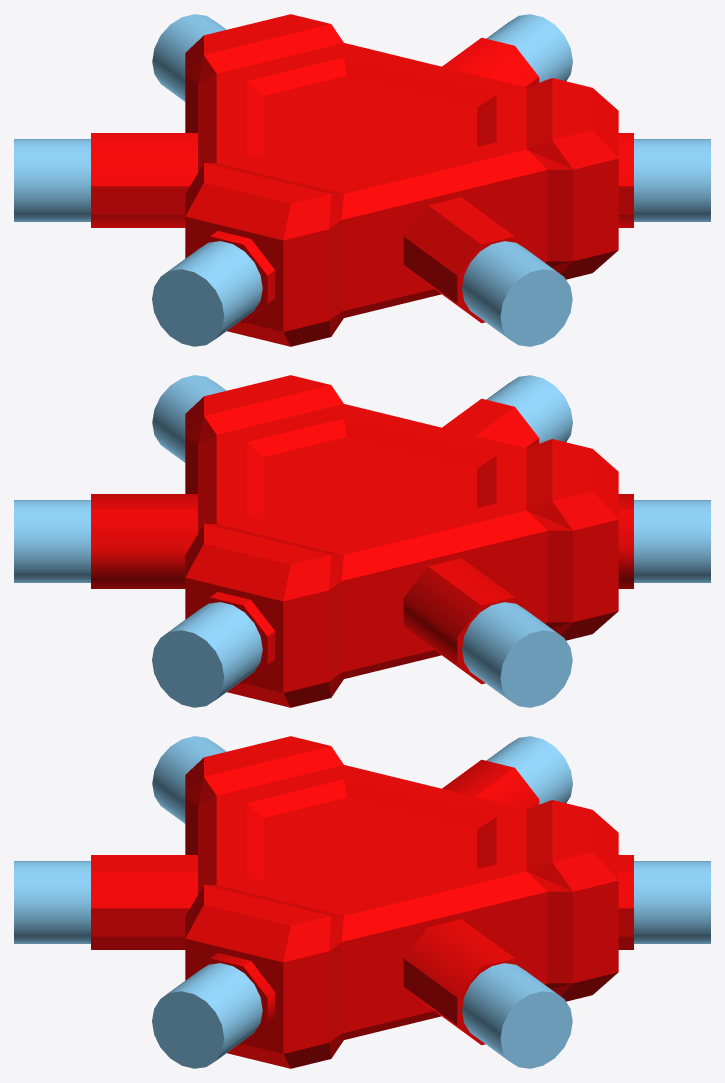
File: Holo_parc.fbx
The picture shows the model from 3 angles, top to bottom: view 1: azimuth 30°, elevation 25°; view 2: azimuth 150°, elevation 25°; view 3: azimuth 270°, elevation 25°; orthographic projection.
Parts seen in each view (by area): view 1: Holo_Parc, Connexion (×6); view 2: Holo_Parc, Connexion (×6); view 3: Holo_Parc, Connexion (×6).
Part boxes in pixels (bbox=[...]): Holo_Parc: bbox=[91, 14, 633, 346]; Connexion (×6): bbox=[14, 14, 710, 346]; Holo_Parc: bbox=[91, 375, 633, 707]; Connexion (×6): bbox=[14, 375, 710, 707]; Holo_Parc: bbox=[91, 736, 633, 1068]; Connexion (×6): bbox=[14, 736, 710, 1068].
Bounding box in the file's own units: 722 × 177 × 780.
